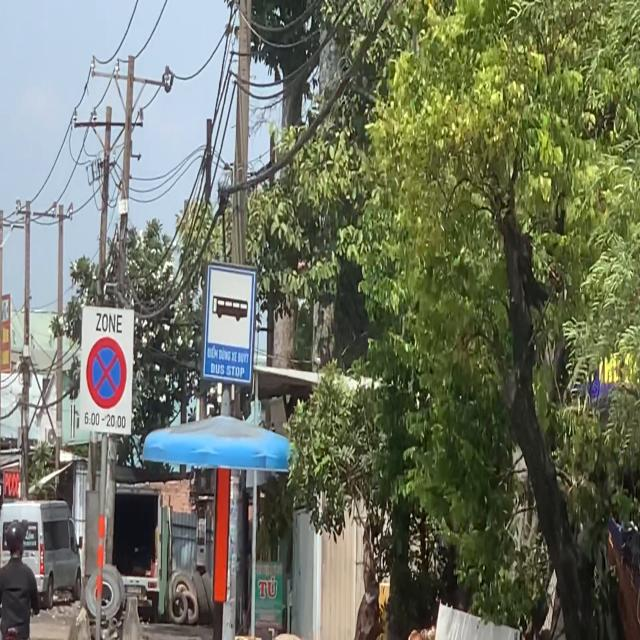Ben xe buyt: (202, 260, 258, 385)
Cam dung va do: (86, 336, 128, 410)
